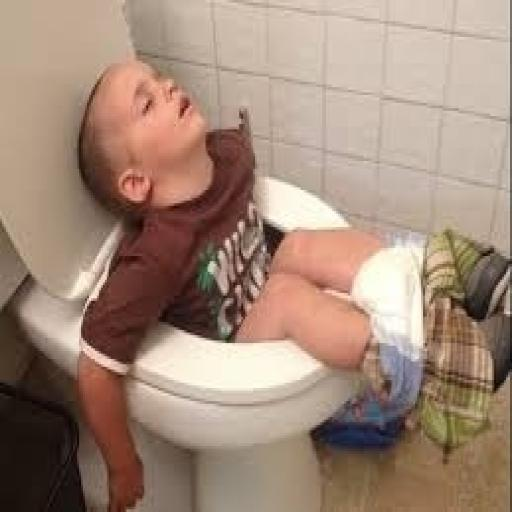sleeping: (69, 50, 510, 507)
